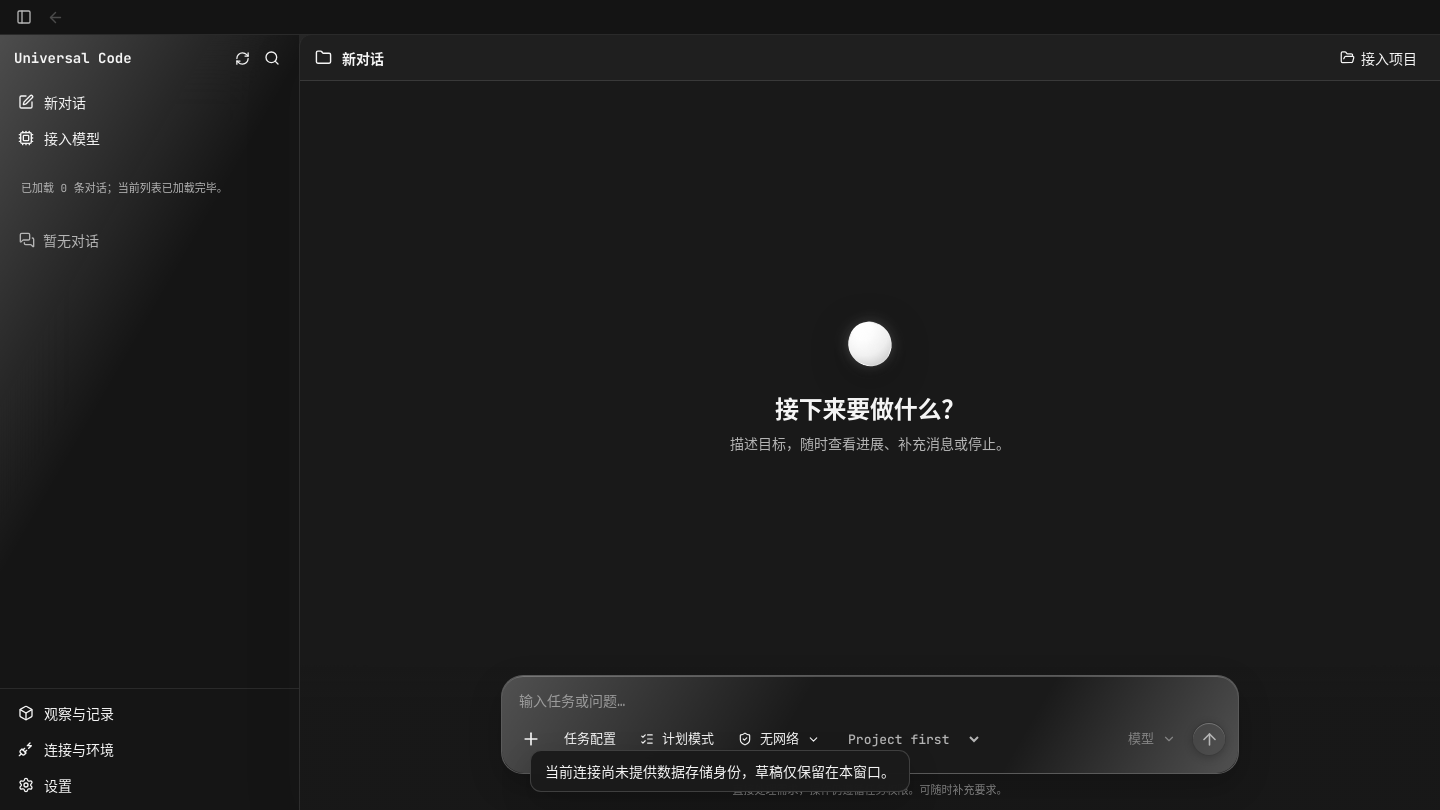
keeps project rejections scoped to their own workspace after preview unmount and project switching
Type "第一项目草稿" into the text box named "开始新对话".
click(870, 695); type("第一项目草稿")  # box [502,676,1238,714]
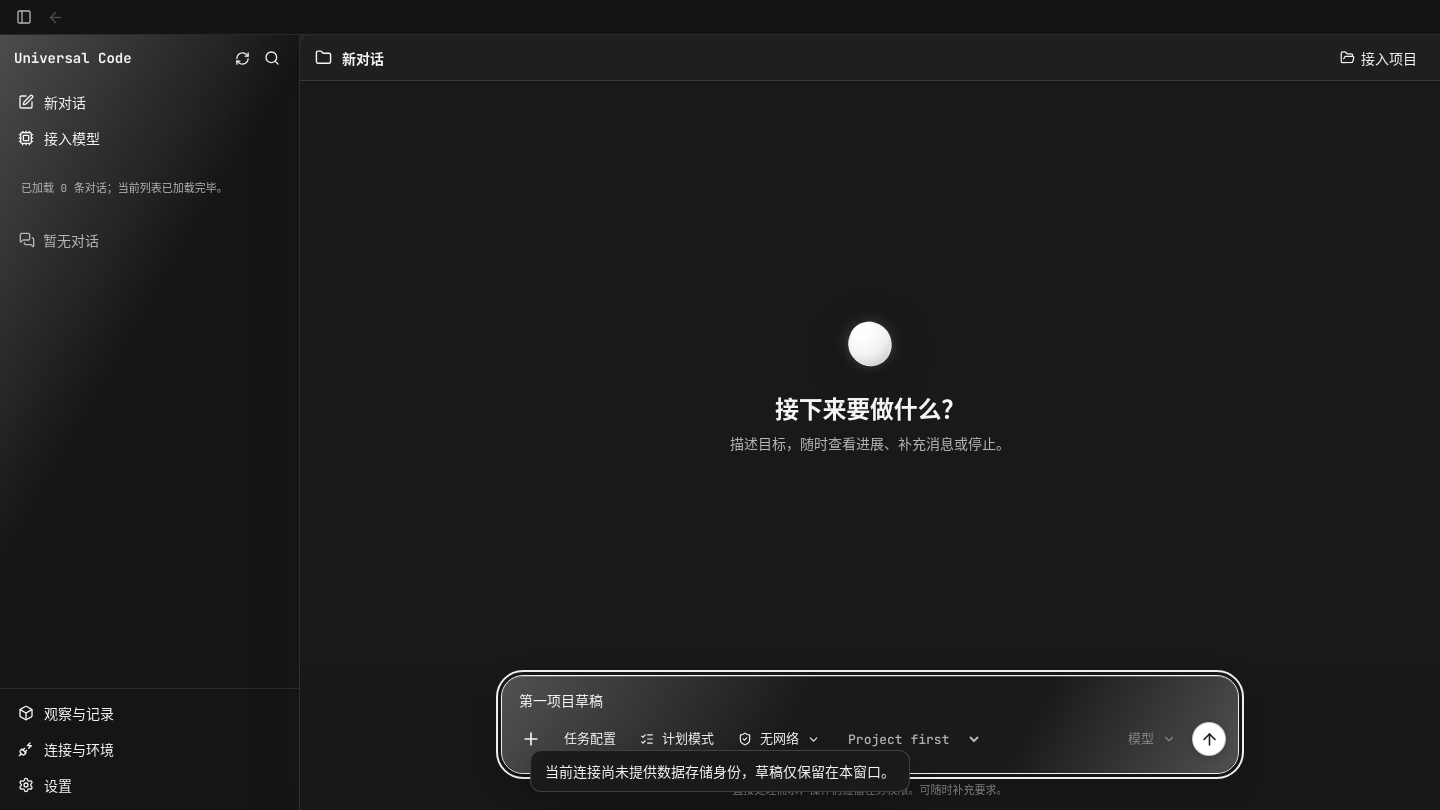
Click the button with aria-label "任务预算与项目配置".
click(590, 739)  # box [556,722,624,756]
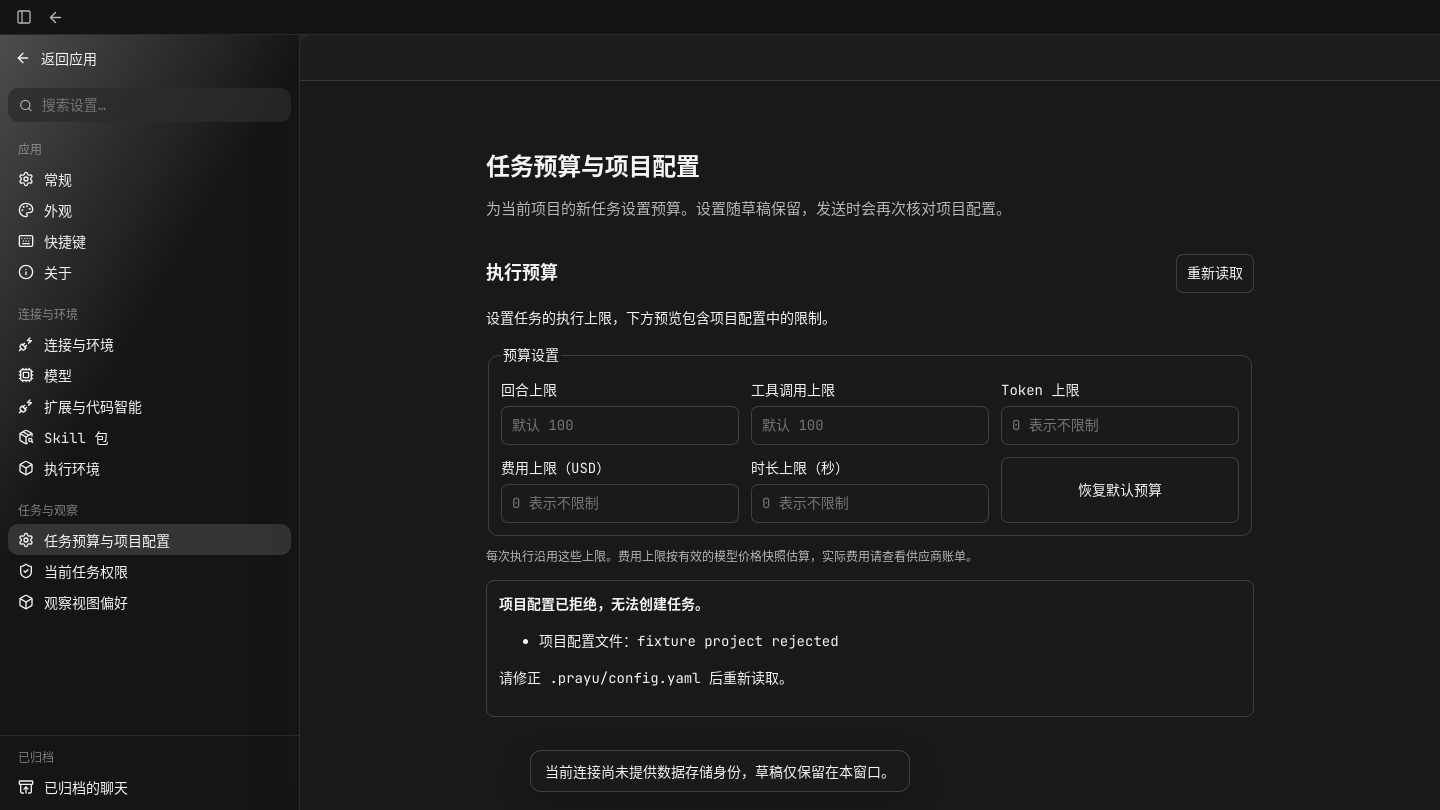
Check: the message "项目配置已拒绝，无法创建任务。 项目配置文件：fixture project rejected 请修正 .prayu/config.yaml 后重新读取。" is shown, box [486,580,1254,717]
Click the button "返回应用".
click(69, 59)  # box [0,35,299,81]
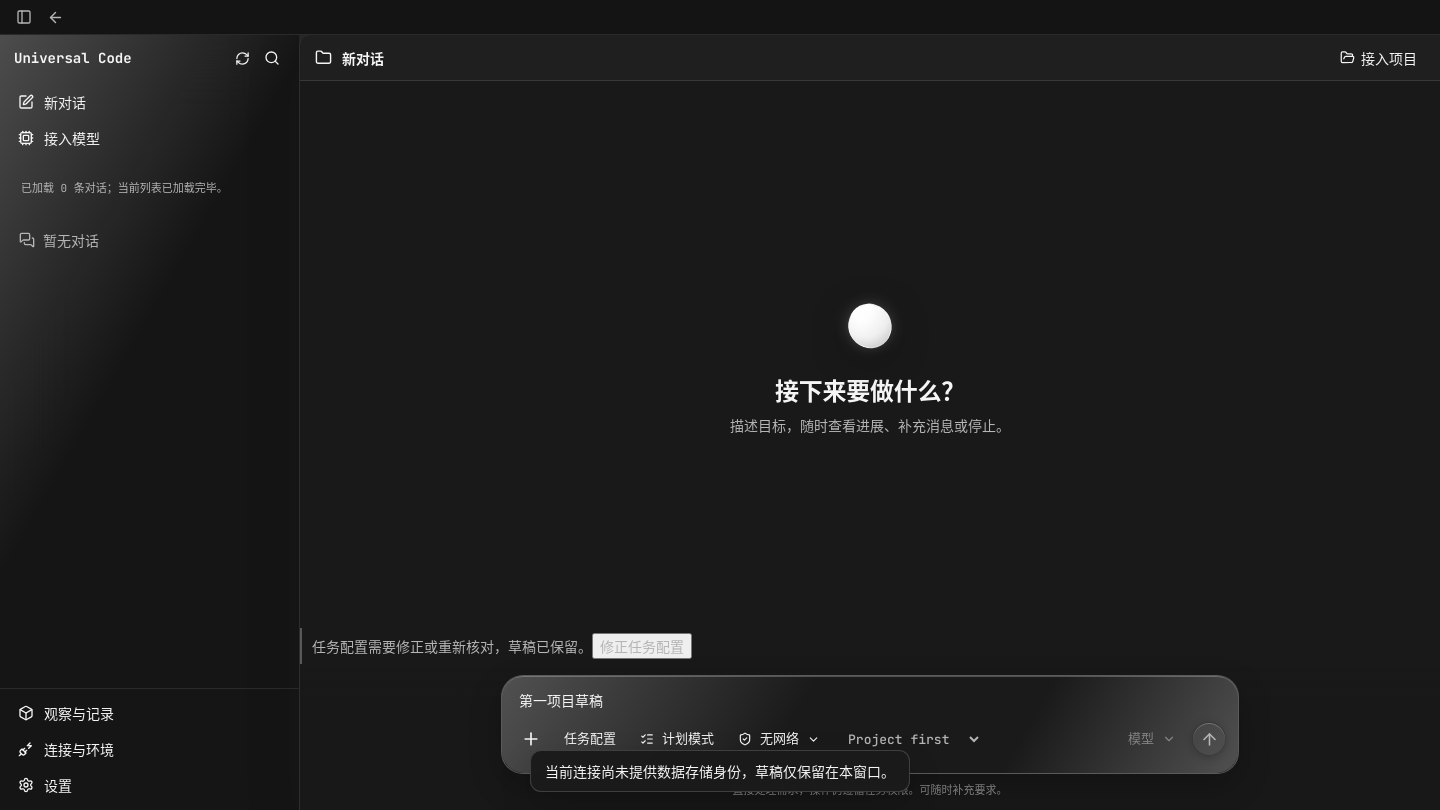
Check: the button named "发送消息" is disabled, box [1192,722,1226,756]
Select "Project second" in the dropdown named "选择工作区" at (909, 739), box [836,722,982,756]
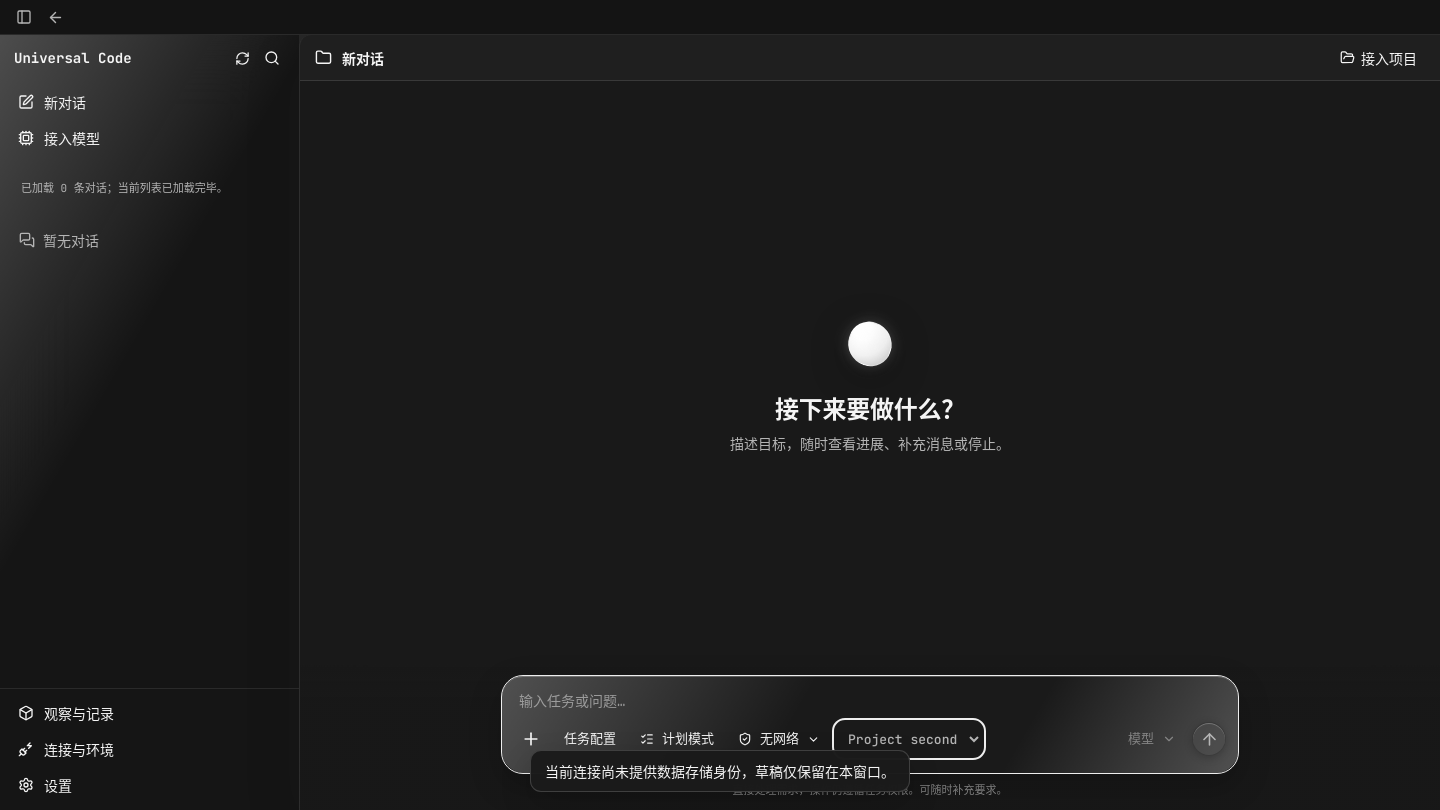
Type "第二项目草稿" into the text box named "开始新对话".
click(870, 695); type("第二项目草稿")  # box [502,676,1238,714]
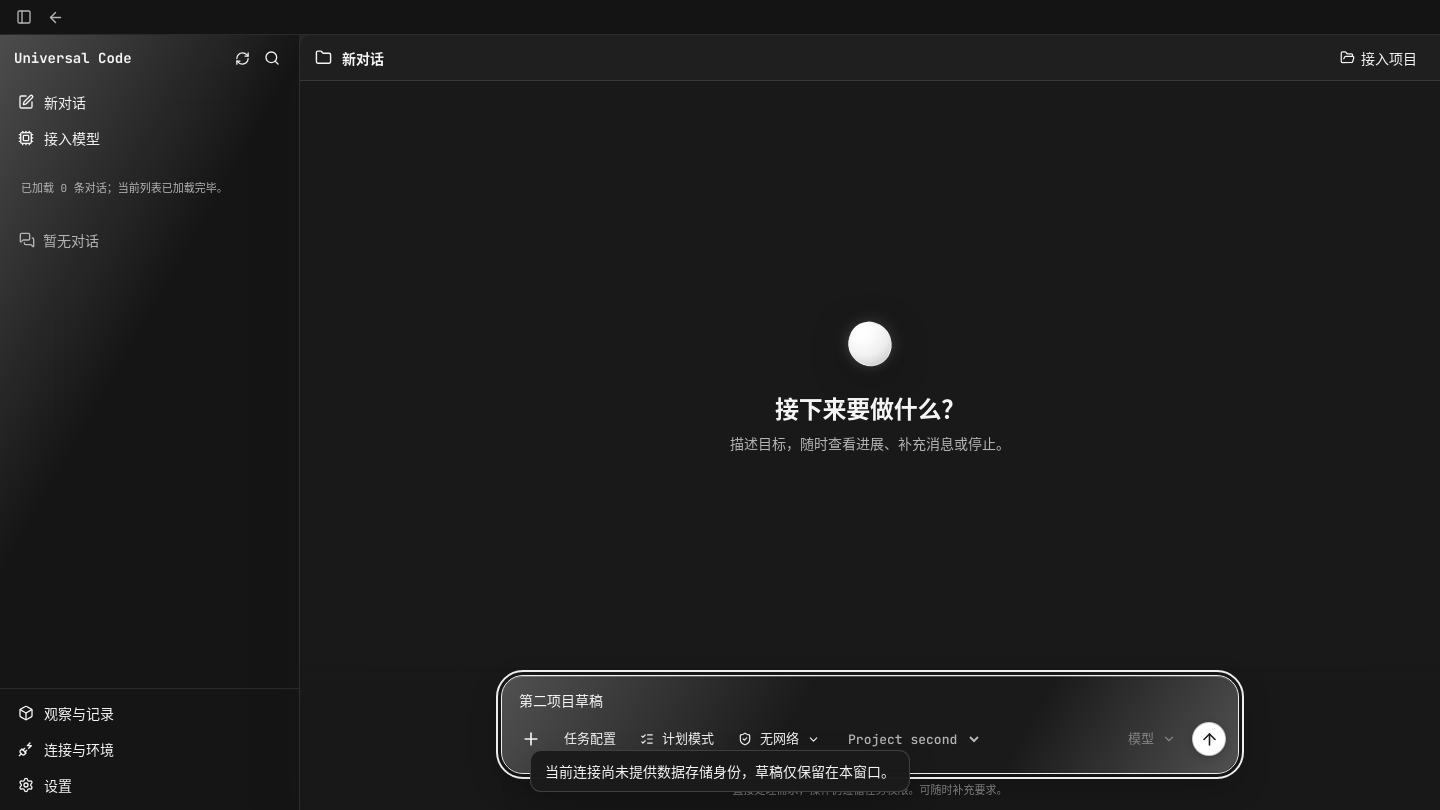
Check: the button named "发送消息" is enabled, box [1192,722,1226,756]
Select "Project first" in the dropdown named "选择工作区" at (909, 739), box [836,722,982,756]
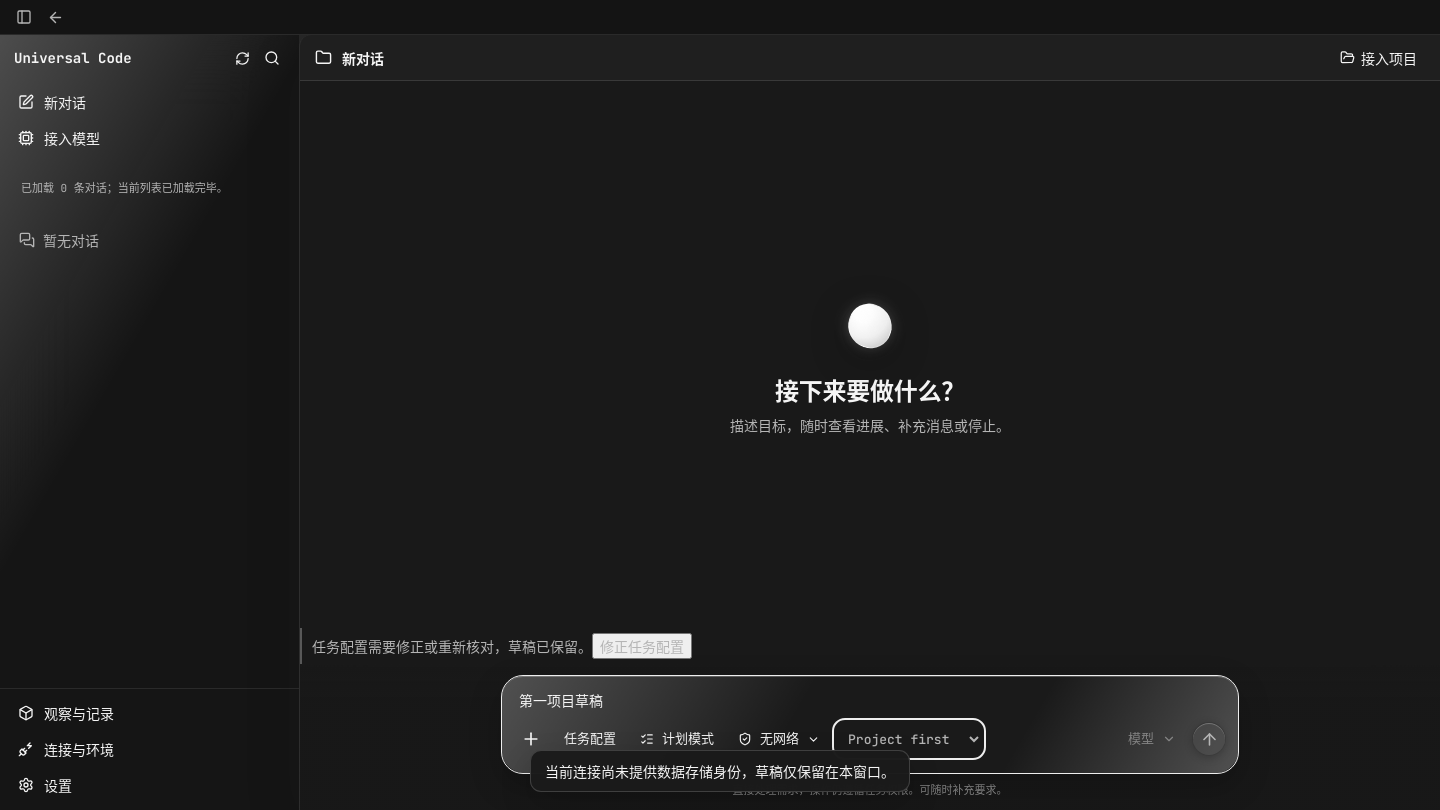
Check: the text box named "开始新对话" holds "第一项目草稿", box [502,676,1238,714]
Check: the button named "发送消息" is disabled, box [1192,722,1226,756]
